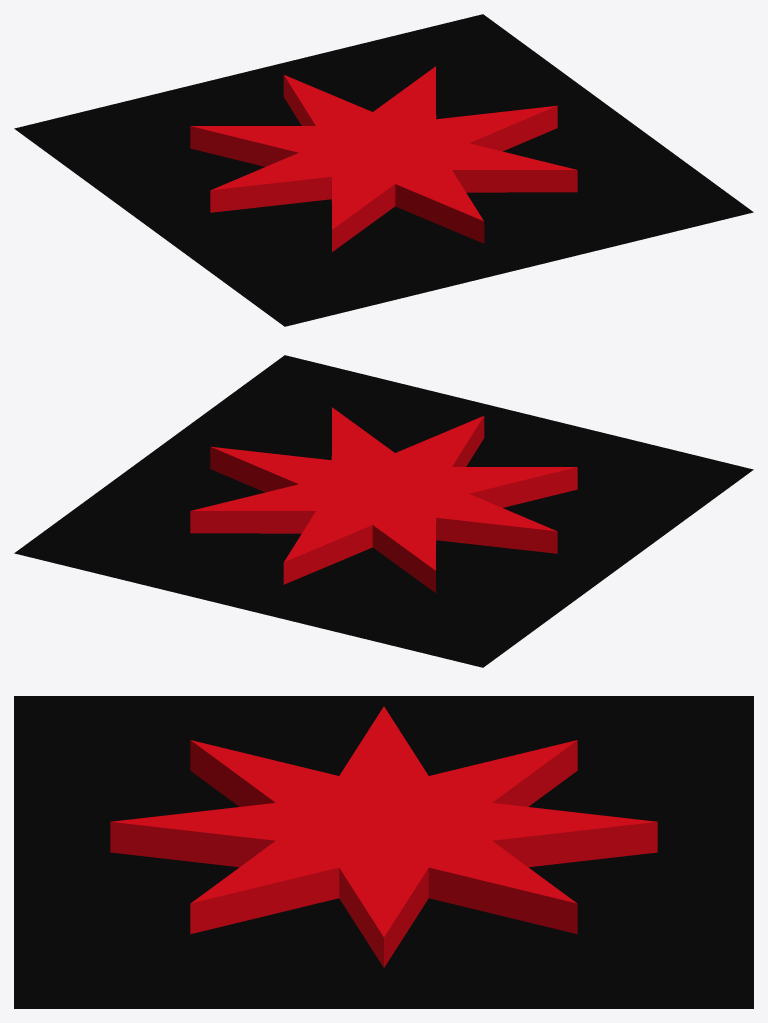
File: Figura8.fbx
3 renders of one model, top to bottom at view 1: azimuth 30°, elevation 25°; view 2: azimuth 150°, elevation 25°; view 3: azimuth 270°, elevation 25°, orthographic. The views are drawn at different scales.
Parts seen in each view (by area): view 1: Circle; view 2: Circle; view 3: Circle.
Boxes of the visible parts, left/top/right/bottom form: Circle: left=14, top=14, right=753, bottom=326; Circle: left=14, top=355, right=753, bottom=667; Circle: left=14, top=696, right=753, bottom=1008.
Size of the model in its own units: 270 by 12.37 by 270.
